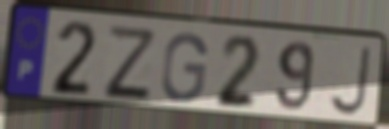2: (49, 19, 99, 99), (216, 33, 264, 111)
9: (272, 39, 317, 114)
G: (158, 30, 210, 106)
J: (326, 44, 374, 119)
Z: (103, 22, 156, 100)
